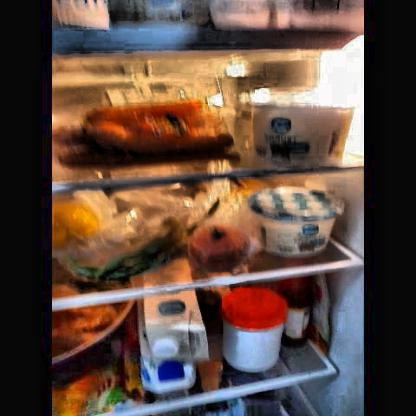carrot: (57, 107, 230, 159)
green_chillies: (68, 230, 182, 285)
lemon: (52, 201, 99, 248)
milk: (140, 300, 206, 390)
tomato: (192, 226, 247, 264)
yoghurt: (245, 92, 353, 160), (250, 188, 340, 253)
